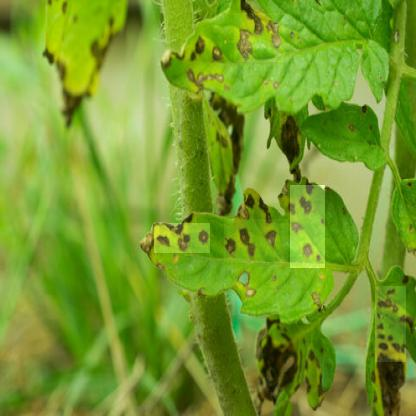black-spot: (290, 185, 325, 268), (224, 219, 288, 263), (234, 13, 285, 62), (375, 286, 406, 362), (154, 223, 210, 253), (190, 37, 229, 68)
